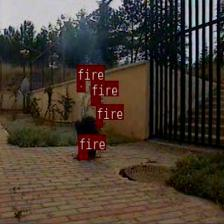fire: (77, 149, 88, 159), (90, 96, 100, 106), (76, 80, 84, 90), (95, 120, 102, 126)
